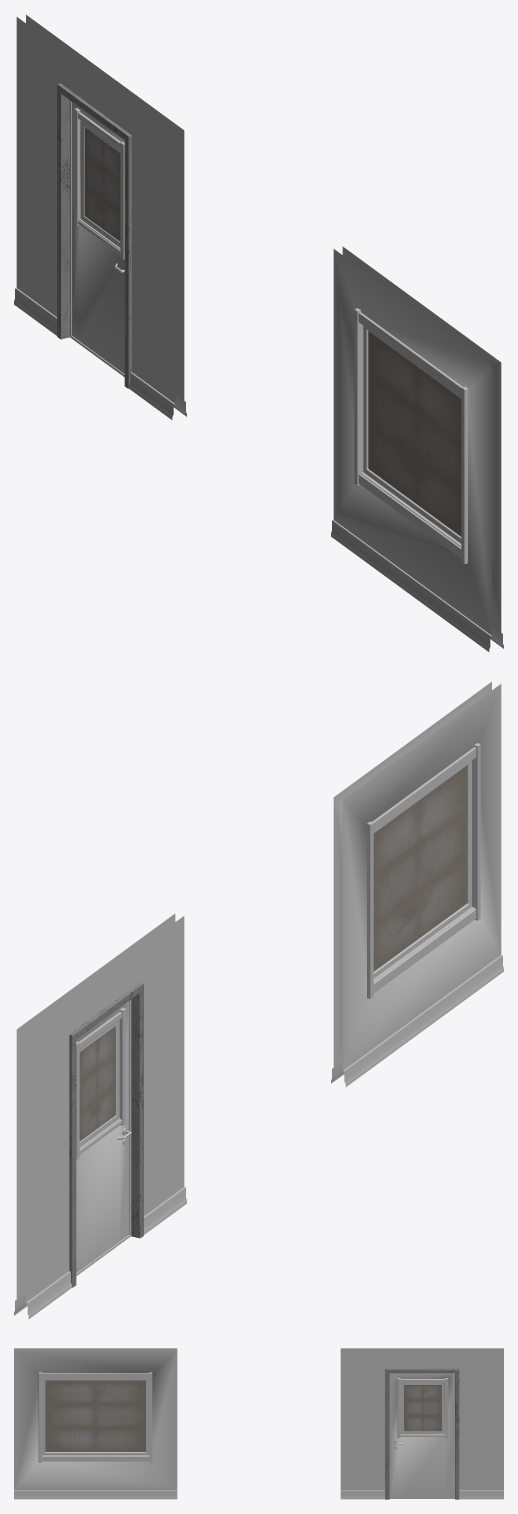
File: UpdatedDoorAndWindows.fbx
3 renders of one model, top to bottom at view 1: azimuth 30°, elevation 25°; view 2: azimuth 150°, elevation 25°; view 3: azimuth 270°, elevation 25°, orthographic. The views are drawn at different scales.
Visible parts, largest first — view 1: pCube62, SingleDoorWall, SingleDoor, SingleDoorFrame, pCube62.002, pCube62.001; view 2: pCube62, SingleDoorWall, SingleDoor, SingleDoorFrame, pCube62.002, pCube62.001; view 3: pCube62, SingleDoorWall, SingleDoor, pCube62.002, SingleDoorFrame, pCube62.001.
Boxes of the visible parts, left/top/right/bottom form: pCube62: left=331, top=246, right=503, bottom=651; SingleDoorWall: left=14, top=15, right=186, bottom=419; SingleDoor: left=70, top=101, right=124, bottom=376; SingleDoorFrame: left=57, top=83, right=131, bottom=388; pCube62.002: left=84, top=127, right=120, bottom=241; pCube62.001: left=74, top=108, right=124, bottom=259; pCube62: left=331, top=682, right=503, bottom=1086; SingleDoorWall: left=14, top=913, right=186, bottom=1318; SingleDoor: left=76, top=999, right=131, bottom=1275; SingleDoorFrame: left=69, top=982, right=143, bottom=1287; pCube62.002: left=79, top=1027, right=115, bottom=1141; pCube62.001: left=76, top=1008, right=125, bottom=1159; pCube62: left=14, top=1348, right=177, bottom=1499; SingleDoorWall: left=340, top=1348, right=503, bottom=1499; SingleDoor: left=389, top=1373, right=454, bottom=1498; pCube62.002: left=404, top=1385, right=441, bottom=1431; SingleDoorFrame: left=385, top=1368, right=459, bottom=1499; pCube62.001: left=397, top=1378, right=448, bottom=1438.
Bounding box in the file's own units: 21.97 × 300 × 900.
